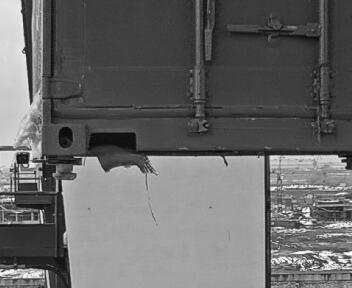twist_lock_1: (40, 153, 86, 187)
